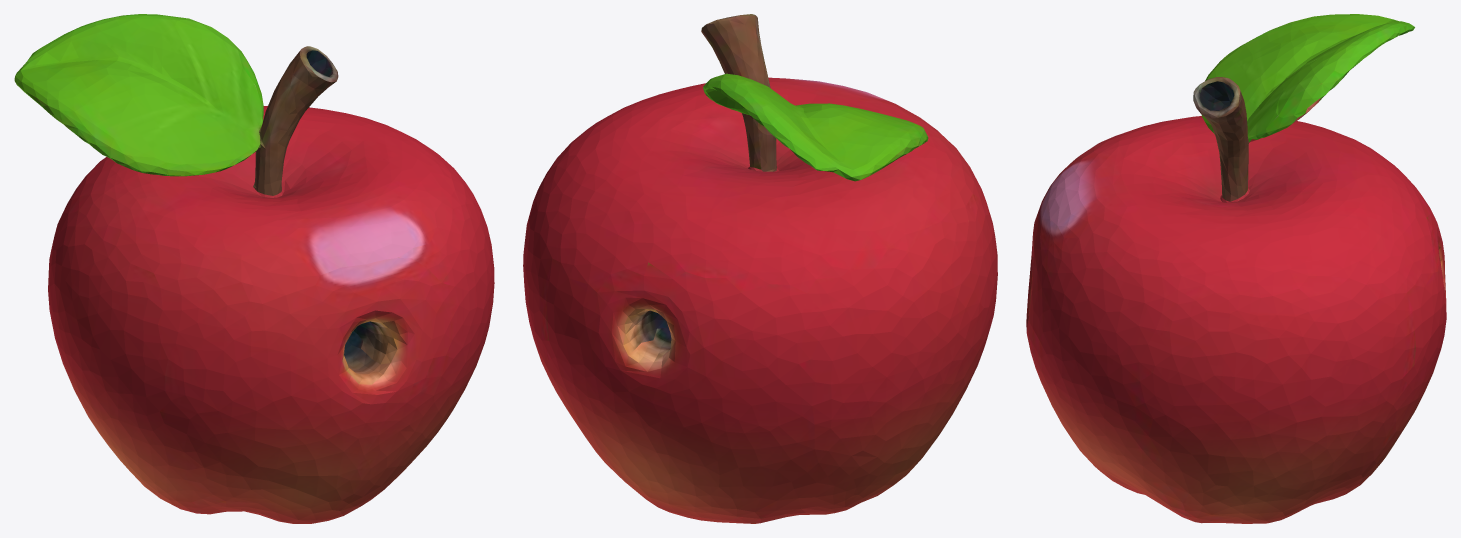
The model's file is apple.glb.
3 renders of one model, left to right at view 1: azimuth 30°, elevation 25°; view 2: azimuth 150°, elevation 25°; view 3: azimuth 270°, elevation 25°, orthographic. The views are drawn at different scales.
Visible parts, largest first — view 1: tmp1t60g3_h.ply; view 2: tmp1t60g3_h.ply; view 3: tmp1t60g3_h.ply.
Boxes of the visible parts, box(x1,y1,x2,y2) form: tmp1t60g3_h.ply: box(14, 14, 494, 523); tmp1t60g3_h.ply: box(523, 14, 997, 523); tmp1t60g3_h.ply: box(1026, 14, 1446, 523).
Size of the model in its own units: 1.86 by 2 by 1.79.
Materials: 1 (1 with a texture image).
